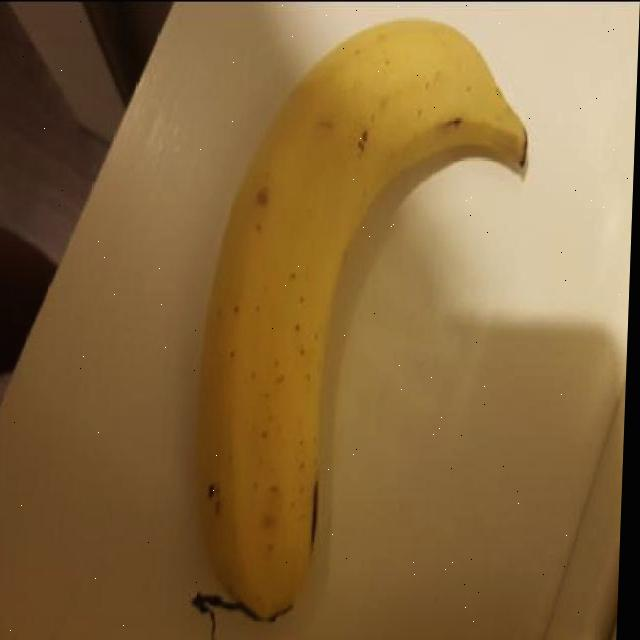banana: (182, 11, 540, 626)
